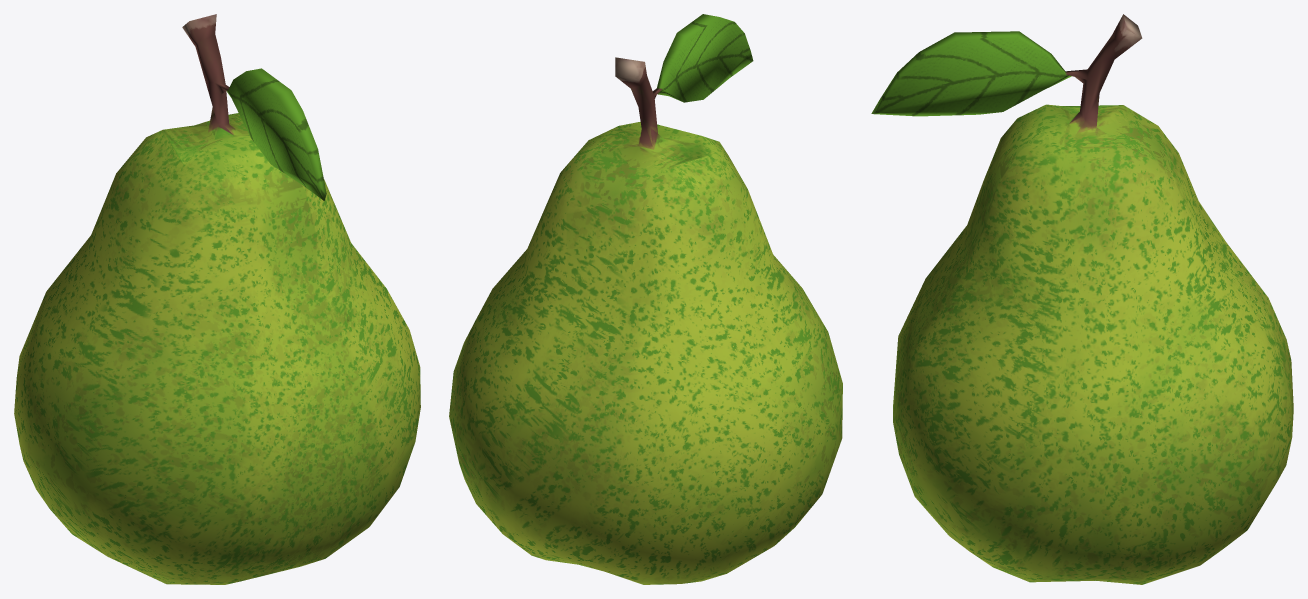
The model's file is pear.fbx.
3 renders of one model, left to right at view 1: azimuth 30°, elevation 25°; view 2: azimuth 150°, elevation 25°; view 3: azimuth 270°, elevation 25°, orthographic. The views are drawn at different scales.
Parts seen in each view (by area): view 1: NL_Pear; view 2: NL_Pear; view 3: NL_Pear.
Part boxes in pixels (x1,y1,x2,y2): NL_Pear: (14,14,420,584); NL_Pear: (449,14,842,584); NL_Pear: (871,14,1293,584).
Size of the model in its own units: 5.43 by 7.71 by 5.58.
